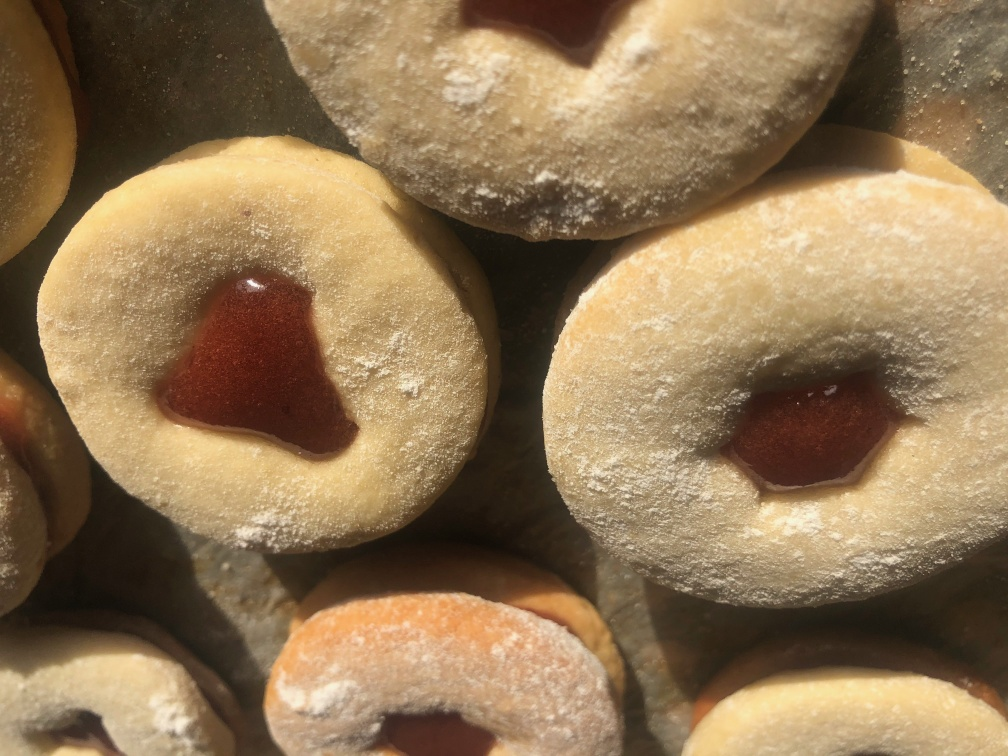christmas shortbread with jam: (556, 131, 1008, 581), (38, 133, 498, 543), (263, 1, 876, 238), (262, 588, 636, 756)
